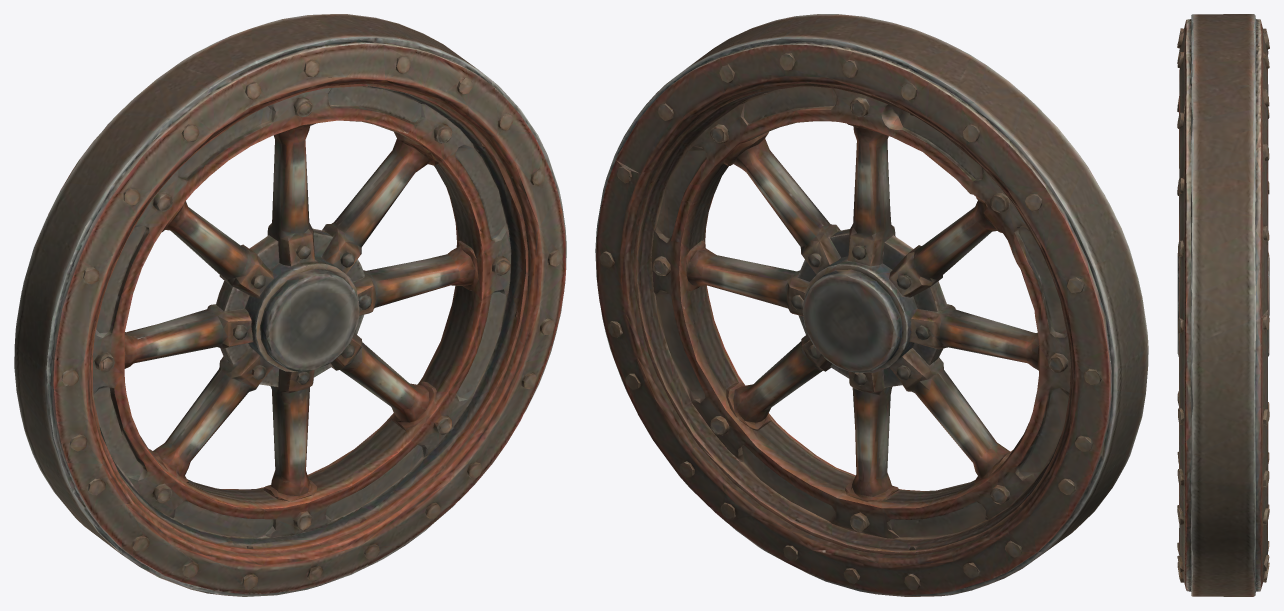
File: headframe_sheave_wheel.glb
3 views of the same model, side by side, from view 1: azimuth 30°, elevation 25°; view 2: azimuth 150°, elevation 25°; view 3: azimuth 270°, elevation 25° (orthographic). The views are drawn at different scales.
Parts seen in each view (by area): view 1: main; view 2: main; view 3: main.
Boxes of the visible parts, x1,y1,x2,y2 form: main: (14, 14, 566, 596); main: (595, 14, 1148, 596); main: (1177, 14, 1269, 596).
Size of the model in its own units: 1.49 by 1.49 by 0.2368.
1 material, 1 textured.
